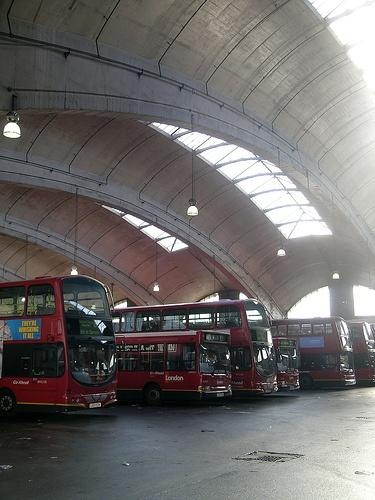bus: (1, 274, 119, 415), (114, 298, 278, 397), (115, 329, 234, 409), (269, 316, 358, 389), (347, 323, 375, 384), (274, 338, 300, 392)
